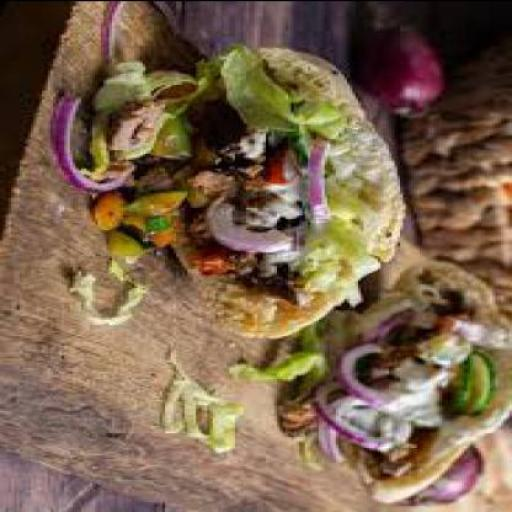biodegradable: (98, 42, 408, 336), (299, 230, 511, 502), (244, 49, 414, 285), (157, 346, 245, 454), (370, 18, 456, 114), (54, 94, 137, 190), (212, 280, 344, 338), (221, 48, 302, 134), (135, 139, 223, 218), (196, 194, 296, 259), (403, 443, 492, 505), (103, 1, 186, 62), (322, 378, 394, 447), (67, 261, 151, 320), (234, 326, 333, 376), (300, 134, 344, 236), (316, 223, 380, 287), (398, 359, 450, 430), (328, 392, 380, 462), (280, 356, 333, 421), (416, 320, 486, 367), (450, 350, 501, 413), (148, 108, 199, 162), (338, 176, 383, 234), (123, 98, 174, 146), (263, 147, 308, 194), (128, 215, 188, 249), (302, 256, 350, 298), (126, 188, 188, 220), (187, 246, 244, 278), (159, 66, 210, 100), (274, 394, 311, 438), (109, 224, 154, 258), (191, 168, 235, 200), (137, 166, 177, 198), (112, 60, 148, 95), (322, 430, 346, 467), (101, 193, 125, 225), (364, 452, 374, 478)
